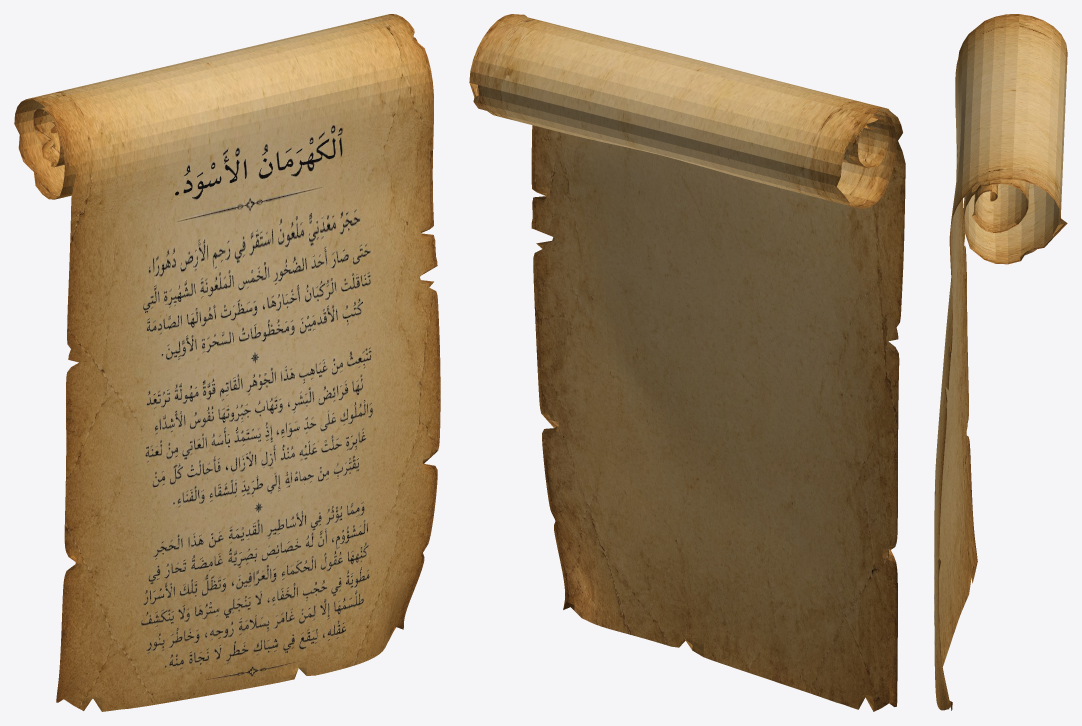
3 renders of one model, left to right at view 1: azimuth 30°, elevation 25°; view 2: azimuth 150°, elevation 25°; view 3: azimuth 270°, elevation 25°, orthographic. The views are drawn at different scales.
Parts seen in each view (by area): view 1: Plane.001, Plane.002; view 2: Plane.002, Plane.001; view 3: Plane.002, Plane.001.
Part boxes in pixels (x1,y1,x2,y2): Plane.001: [14, 17, 440, 711]; Plane.002: [14, 14, 433, 702]; Plane.002: [469, 14, 905, 711]; Plane.001: [470, 14, 905, 708]; Plane.002: [938, 14, 1067, 710]; Plane.001: [934, 14, 1066, 710].
Bounding box in the file's own units: 2.03 × 3.19 × 0.6827.
Materials: 2 (2 with a texture image).
